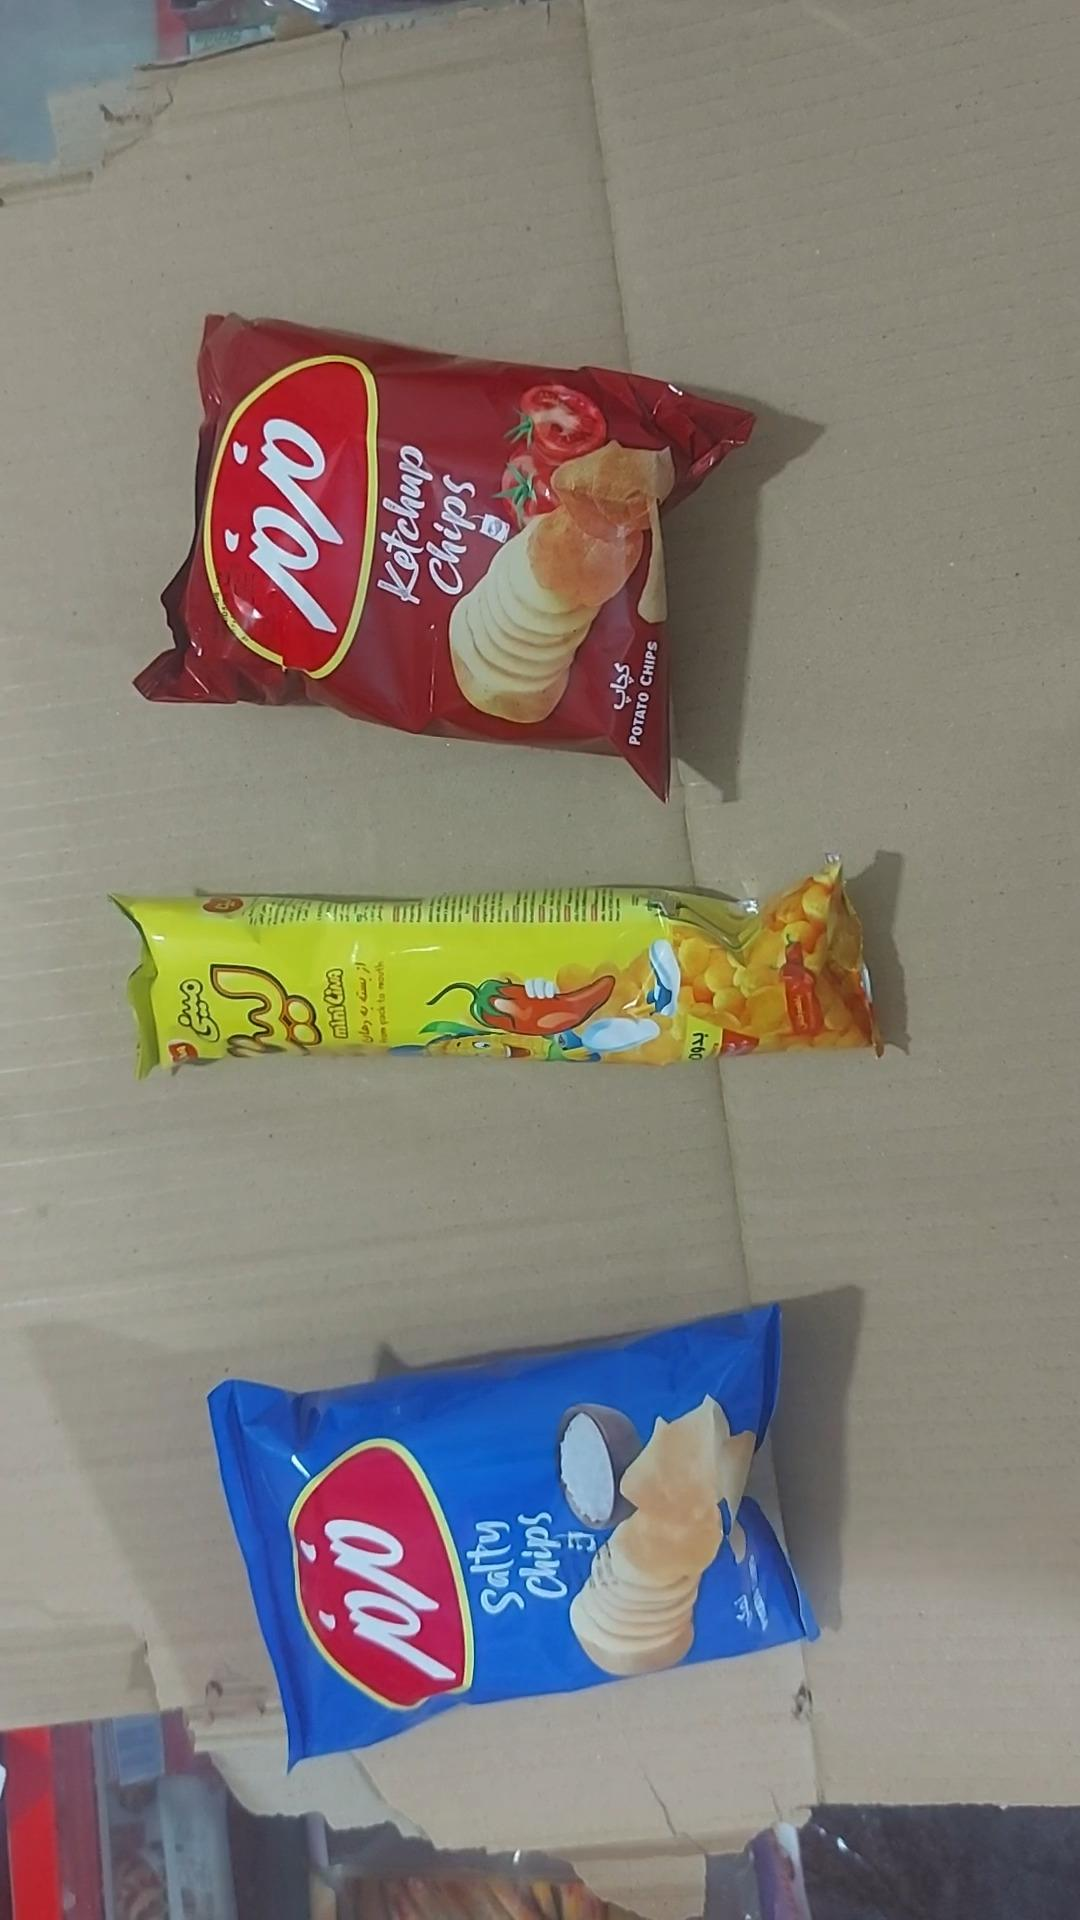Maz Maz ketchup chips: (135, 314, 753, 798)
Maz Maz salty chips: (208, 1307, 816, 1767)
Mini Lina: (115, 862, 881, 1077)
